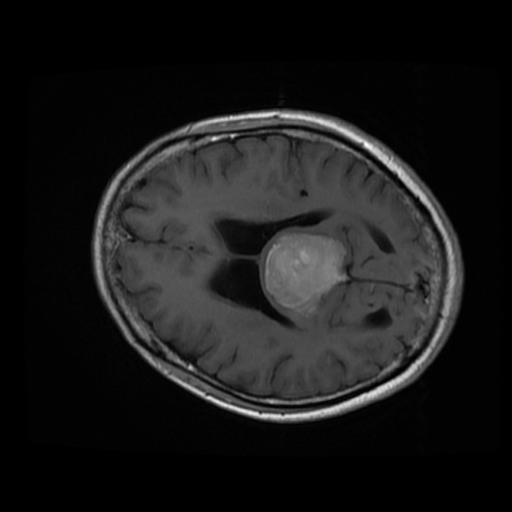meningioma: (264, 231, 347, 317)
